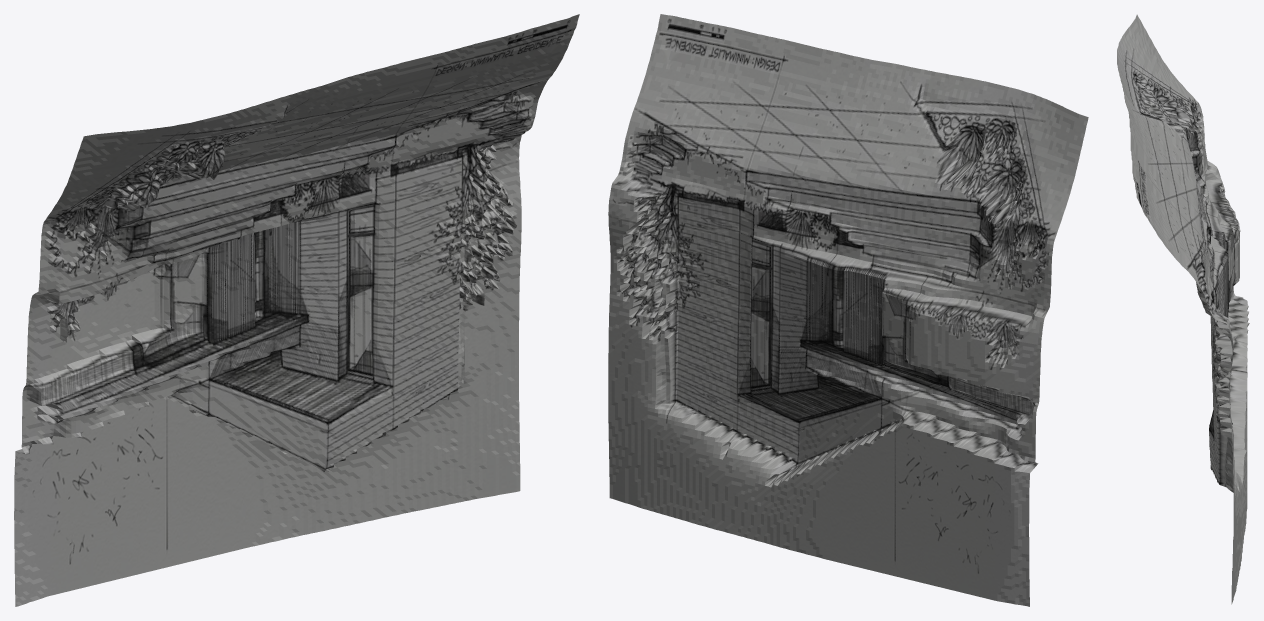
The picture shows the model from 3 angles, left to right: view 1: azimuth 30°, elevation 25°; view 2: azimuth 150°, elevation 25°; view 3: azimuth 270°, elevation 25°; orthographic projection. The views are drawn at different scales.
Visible parts, largest first — view 1: world; view 2: world; view 3: world.
Part boxes in pixels (left/top/right/bottom): world: left=14, top=14, right=579, bottom=606; world: left=608, top=14, right=1088, bottom=606; world: left=1117, top=14, right=1249, bottom=604.
Bounding box in the file's own units: 1 × 1 × 0.2976.
Materials: 1 (1 with a texture image).
